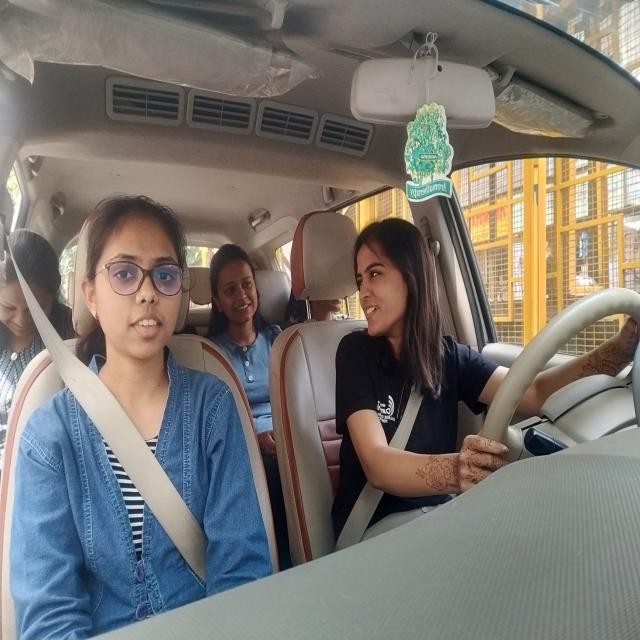LeftRight: (349, 226, 450, 339), (357, 299, 387, 330)
person: (86, 194, 189, 363), (8, 225, 60, 338), (210, 240, 264, 336), (287, 288, 354, 322)
